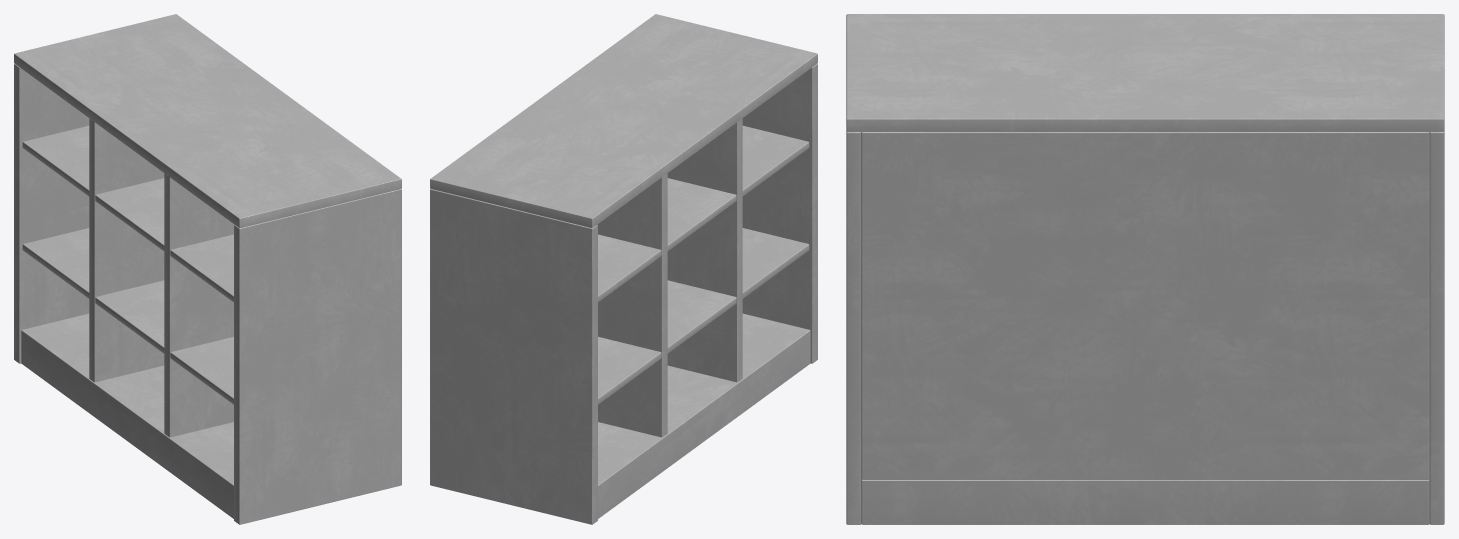
File: SM_RearShelves_01.fbx
3 views of the same model, side by side, from view 1: azimuth 30°, elevation 25°; view 2: azimuth 150°, elevation 25°; view 3: azimuth 270°, elevation 25° (orthographic). The views are drawn at different scales.
Parts seen in each view (by area): view 1: SM_RearShelves_01_LOD0; view 2: SM_RearShelves_01_LOD0; view 3: SM_RearShelves_01_LOD0.
Boxes of the visible parts, x1,y1,x2,y2 form: SM_RearShelves_01_LOD0: (14, 14, 401, 524); SM_RearShelves_01_LOD0: (430, 14, 817, 524); SM_RearShelves_01_LOD0: (846, 14, 1444, 524).
Size of the model in its own units: 50 by 120 by 90.
